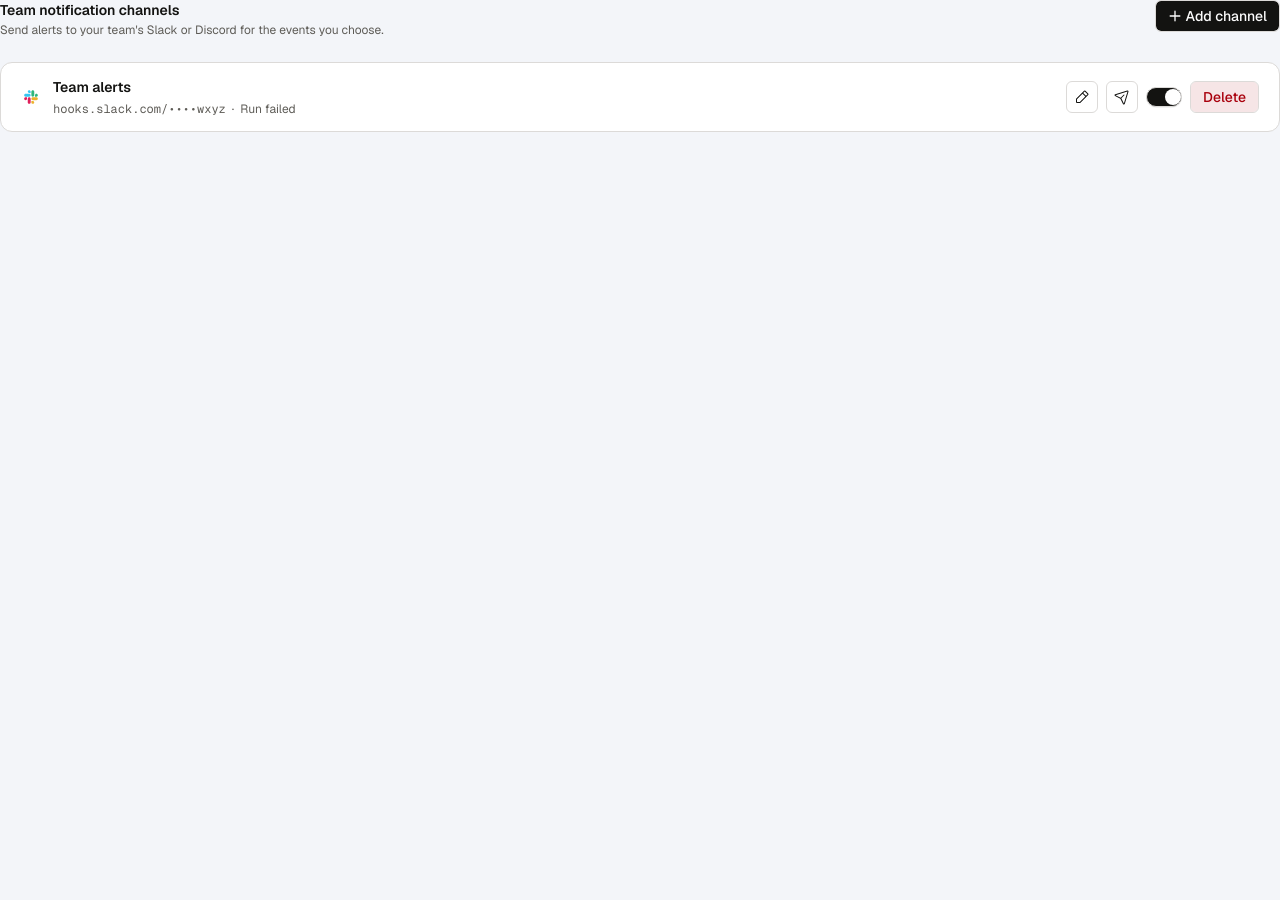
Test: NotificationWebhooksPanel › editing a channel › shows an inline error when the update fails
Click the button named "Edit Team alerts": [1082, 97] box [1066,81,1098,113]
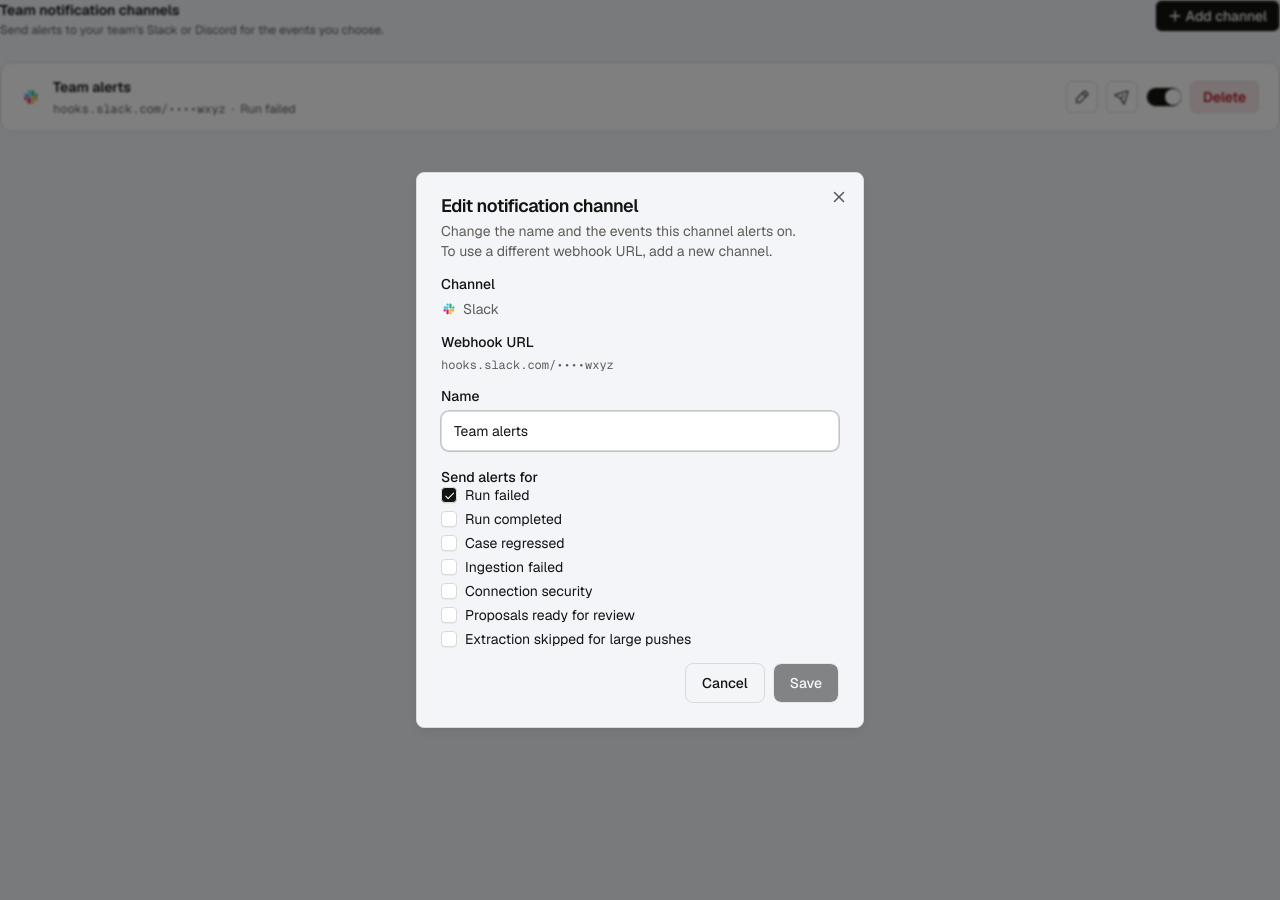
In the field labelled "Name": [640, 431] box [441,411,839,451], type " 2"
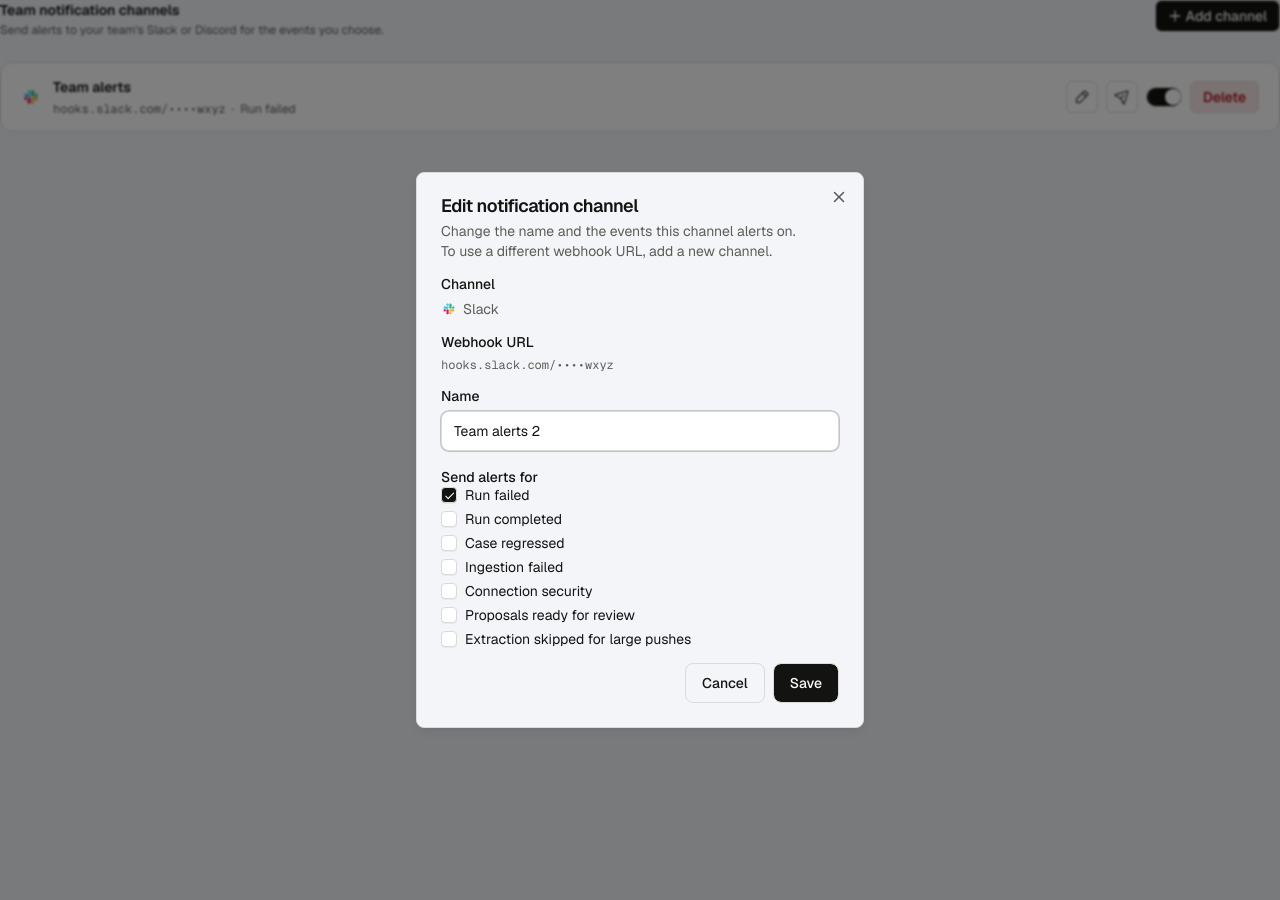
Click the button "Save": [806, 683] box [773,663,839,703]
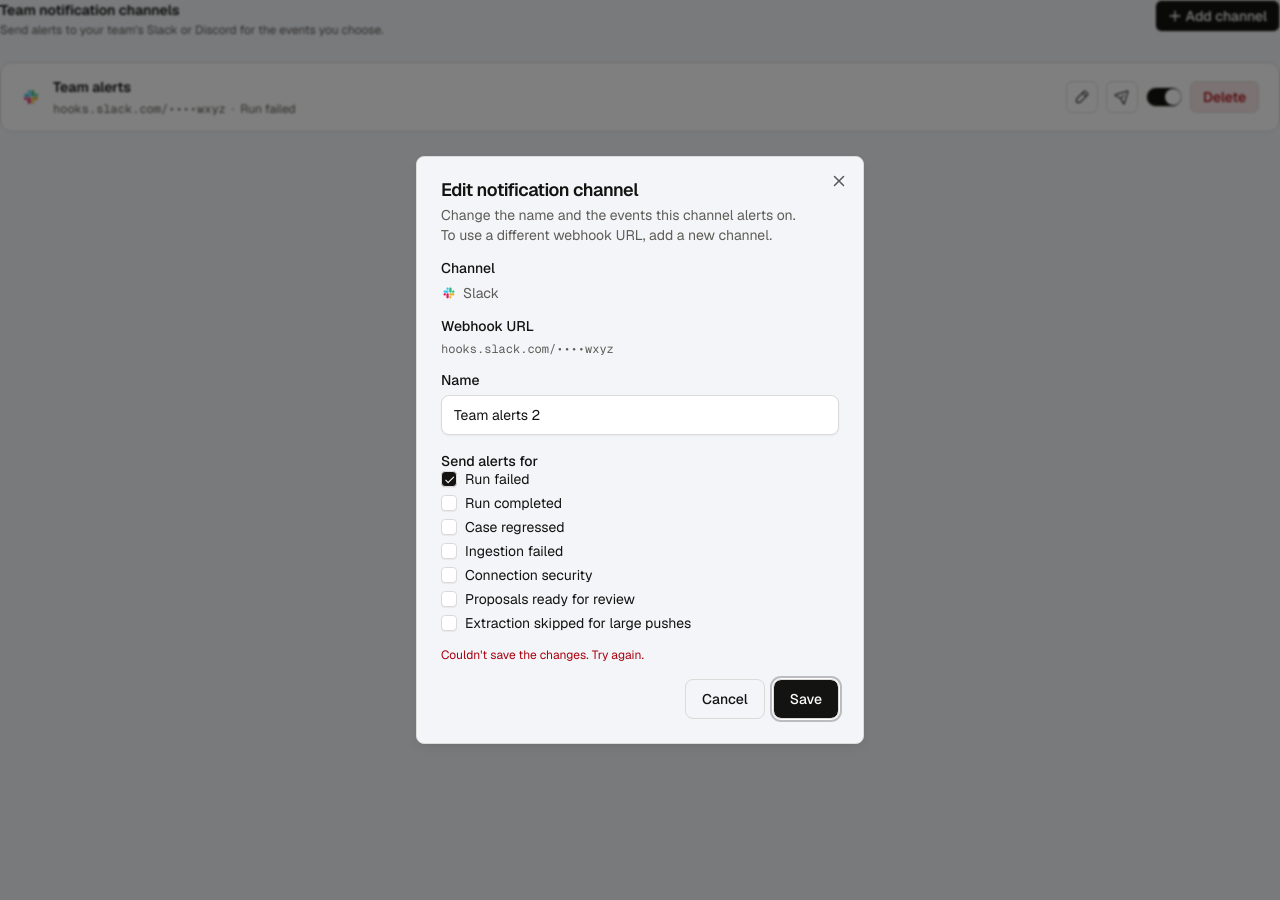
Check: the message reads "Couldn't save the changes. Try again.", box [441,647,644,663]
